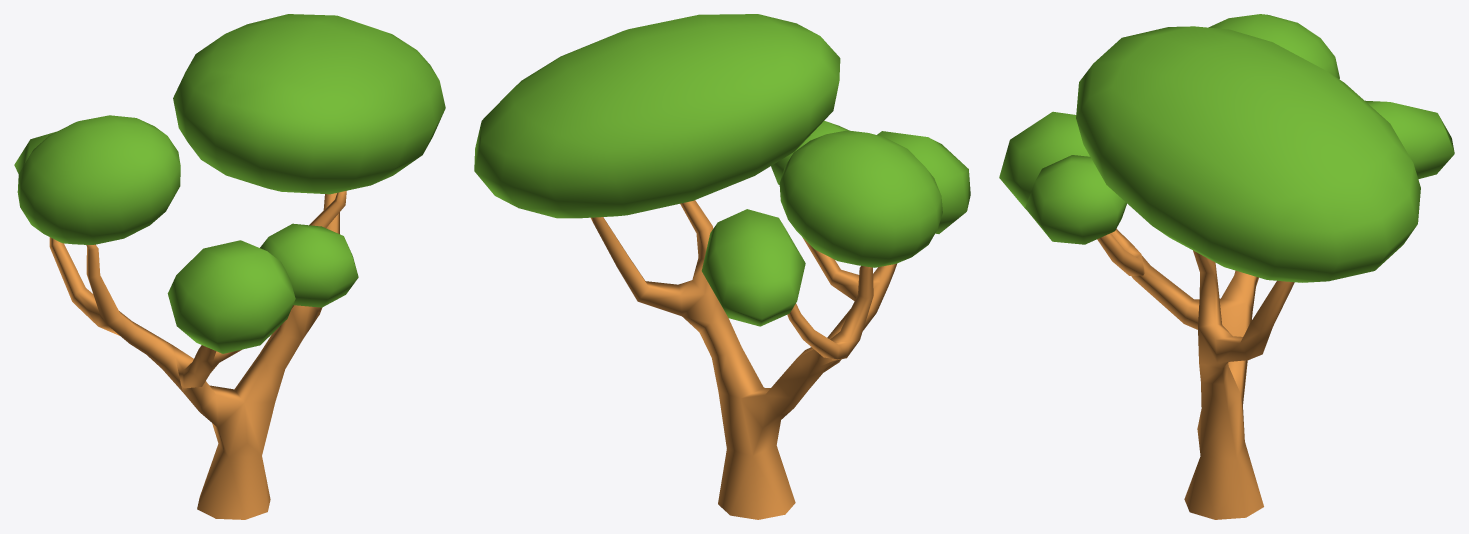
File: Tree_2.fbx
The picture shows the model from 3 angles, left to right: view 1: azimuth 30°, elevation 25°; view 2: azimuth 150°, elevation 25°; view 3: azimuth 270°, elevation 25°; orthographic projection. The views are drawn at different scales.
Visible parts, largest first — view 1: Tree_2; view 2: Tree_2; view 3: Tree_2.
Part boxes in pixels (bbox=[...]): Tree_2: bbox=[14, 14, 445, 519]; Tree_2: bbox=[474, 14, 970, 519]; Tree_2: bbox=[999, 14, 1454, 519].
Bounding box in the file's own units: 1099 × 1142 × 982.
